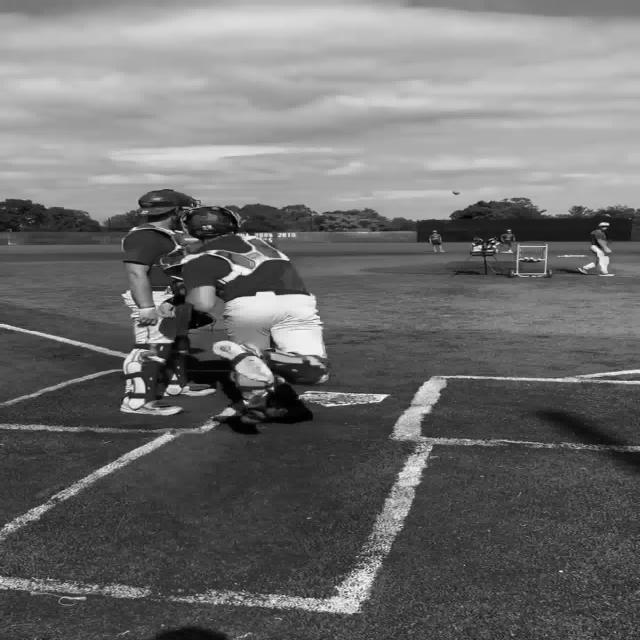base: (299, 388, 395, 408)
baseball: (453, 190, 461, 195)
shoe: (119, 398, 183, 416), (239, 406, 287, 424), (164, 382, 216, 396), (213, 401, 245, 421), (576, 267, 586, 274), (598, 273, 614, 276)
